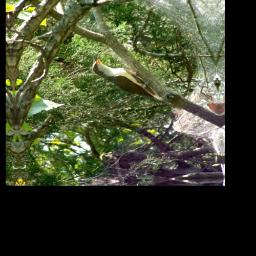Cuckoo: (89, 55, 181, 114)
